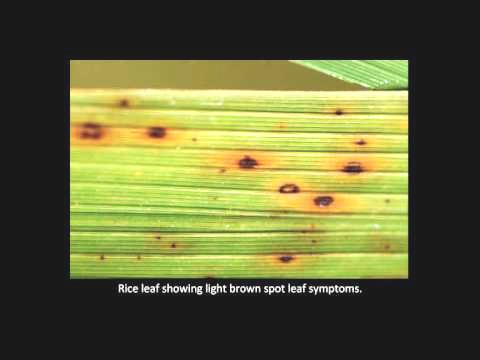0 BrownSpot: (223, 139, 272, 179), (70, 111, 120, 149), (134, 113, 182, 149), (267, 247, 313, 268), (303, 187, 343, 210), (343, 154, 373, 181), (275, 177, 308, 198), (327, 100, 352, 123), (112, 96, 139, 110), (350, 133, 371, 150)
